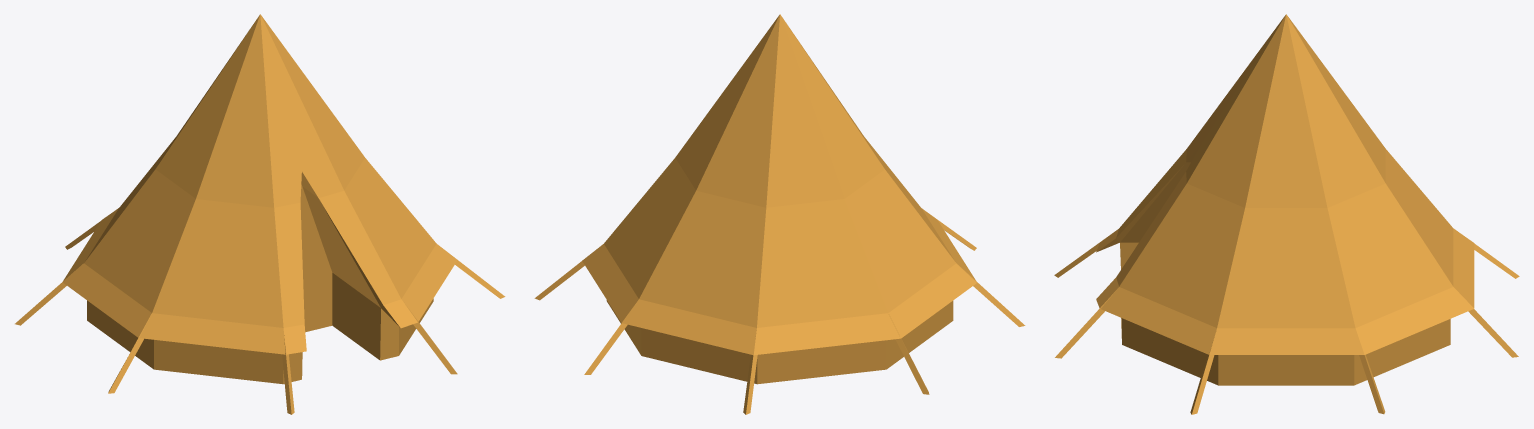
File: tent-bloemfontein-small.fbx
3 views of the same model, side by side, from view 1: azimuth 30°, elevation 25°; view 2: azimuth 150°, elevation 25°; view 3: azimuth 270°, elevation 25° (orthographic).
Visible parts, largest first — view 1: tent-bloemfontein-small; view 2: tent-bloemfontein-small; view 3: tent-bloemfontein-small.
Part boxes in pixels (box(x1,y1,x2,y2)): tent-bloemfontein-small: box(15, 14, 505, 414); tent-bloemfontein-small: box(534, 14, 1025, 414); tent-bloemfontein-small: box(1054, 14, 1519, 414).
Size of the model in its own units: 4.2 by 3.01 by 4.19.
